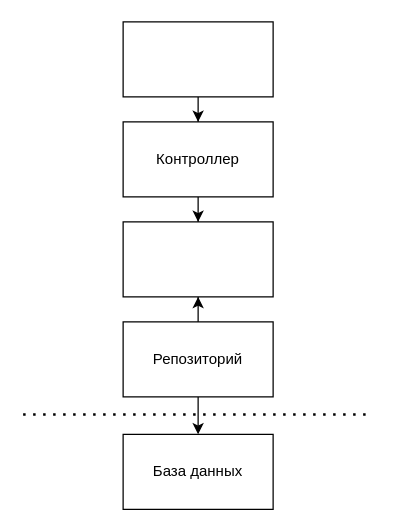
Some shapes in this 396 by 531 pixel diagram are drawn without their labels. Here are the shapes that lost their labels. From the top down, the centre of each, then its label:
At point (197, 59): "Клиент / Представление".
At point (197, 259): "Сервис".
